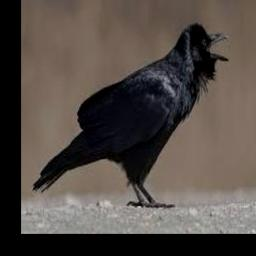Crow: (33, 22, 230, 208)
